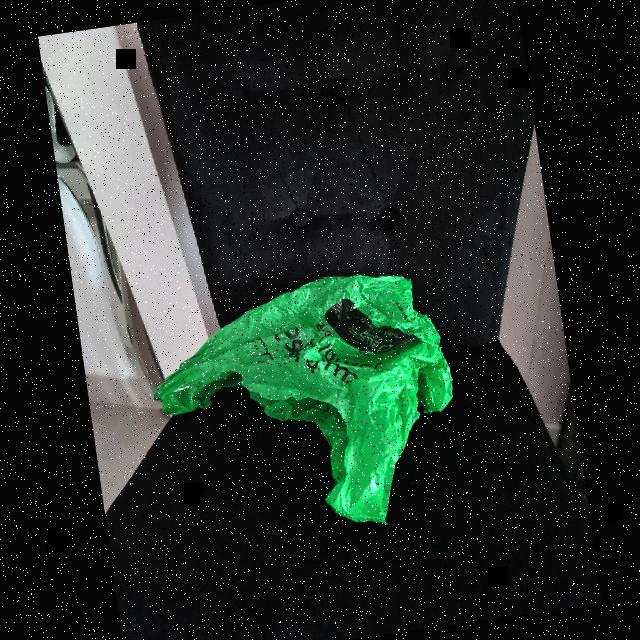plastic_bag: (138, 254, 462, 546)
